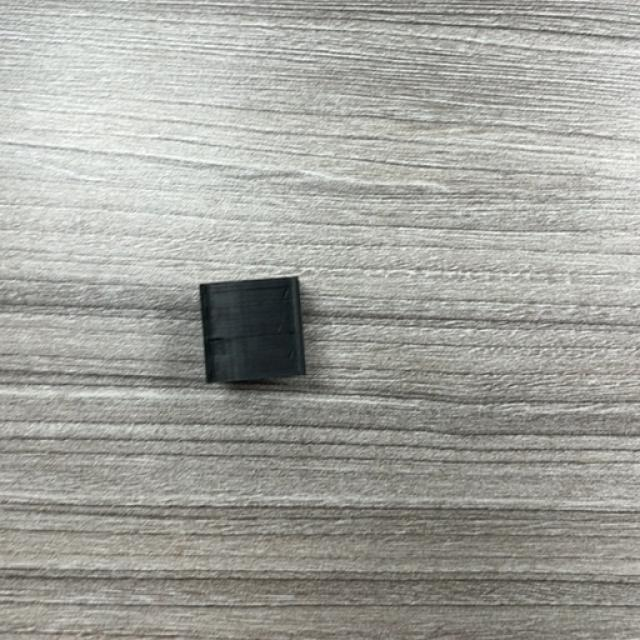Negro: (199, 278, 306, 386)
